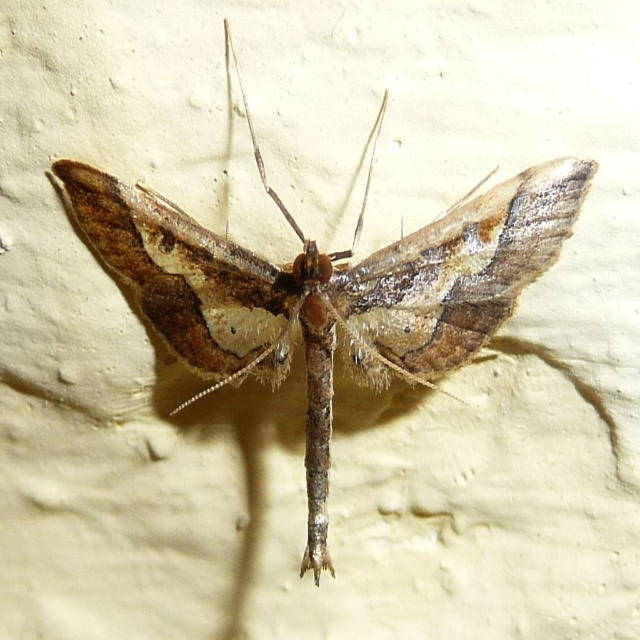Moths and butterflies: (50, 19, 599, 591)
